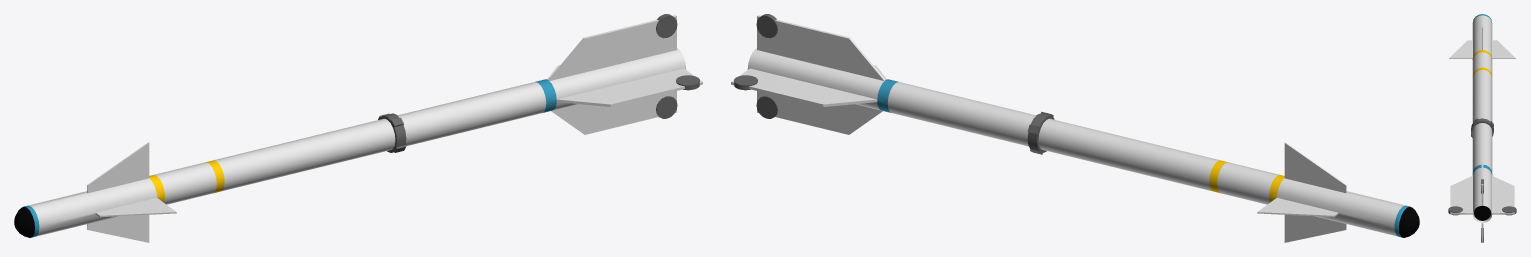
Rendered from AIM-9B.glb.
The picture shows the model from 3 angles, left to right: view 1: azimuth 30°, elevation 25°; view 2: azimuth 150°, elevation 25°; view 3: azimuth 270°, elevation 25°; orthographic projection. The views are drawn at different scales.
Visible parts, largest first — view 1: Body; view 2: Body; view 3: Body.
Boxes of the visible parts, x1=… form: Body: x1=14, y1=14, x2=702, y2=242; Body: x1=731, y1=14, x2=1419, y2=242; Body: x1=1448, y1=14, x2=1516, y2=242.
Bounding box in the file's own units: 3.01 × 0.446 × 0.446.
1 material, 1 textured.
